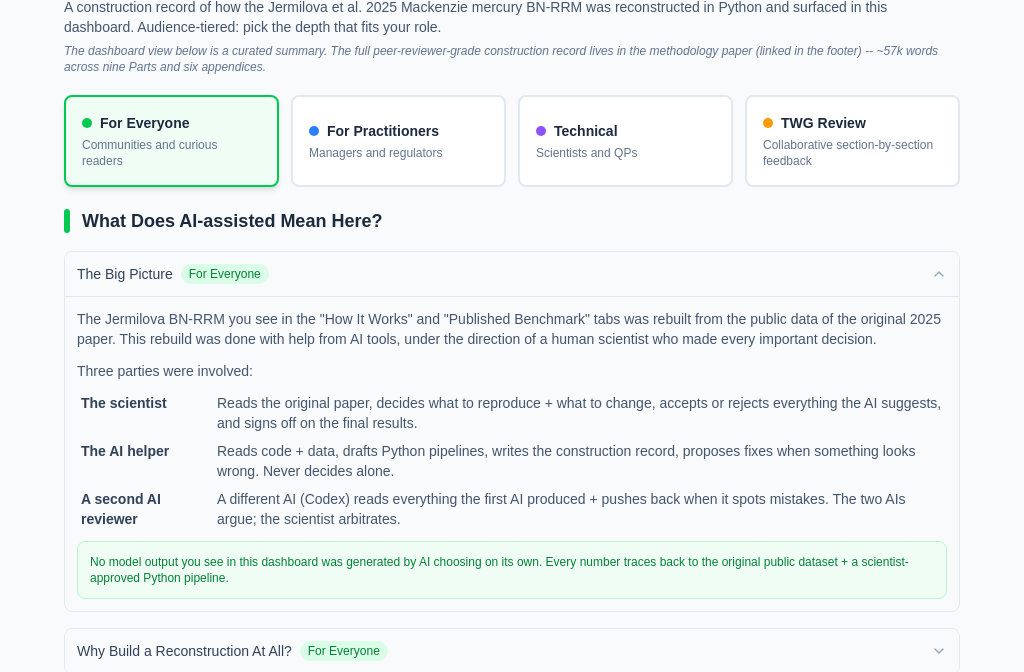
Test: AiAssistedDevelopmentView › switches to the Technical tier when clicked + shows the BDeu formula + opens the Comparison Protocol section
Click the button with test id "ai-assisted-tier-technical" at (626, 141), box [518,95,733,187]
(page scrolled)
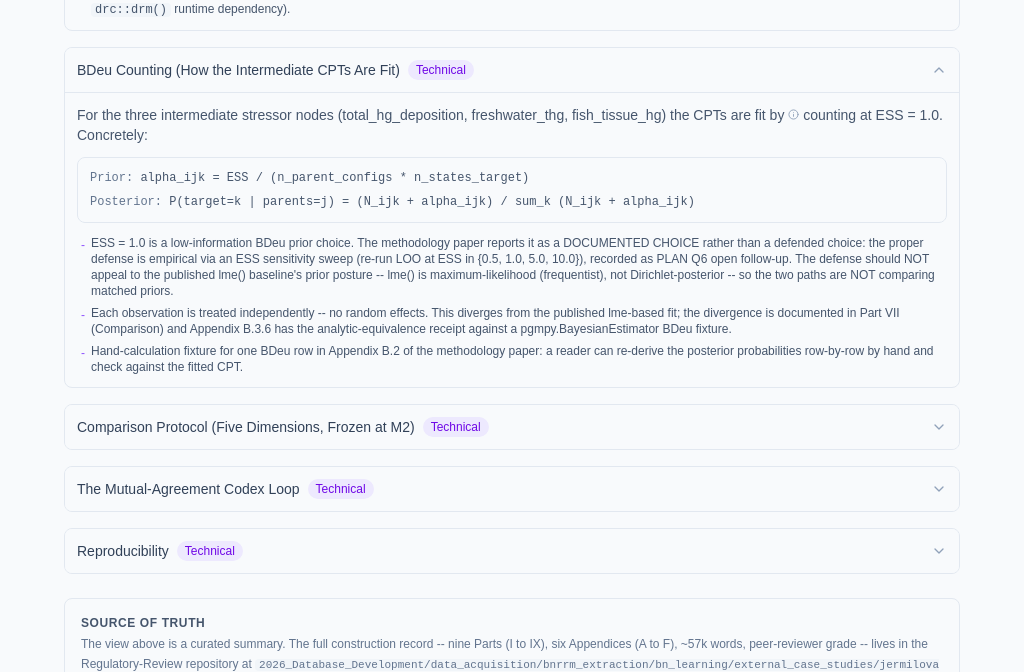
Now the text "alpha_ijk = ESS / (n_parent_configs * n_states_target)" is shown, box [140,171,529,185]
Click the button "Comparison Protocol (Five Dimensions, Frozen at M2)" at (246, 427), box [65,405,959,449]
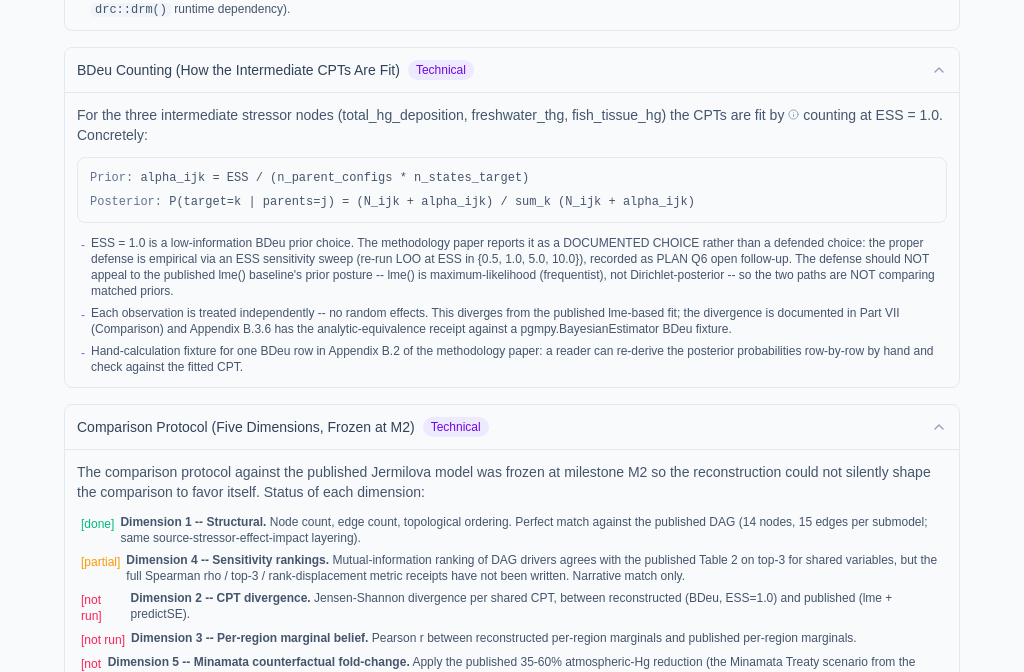
Now the text "Dimension 1 -- Structural" is shown, box [120,515,266,529]
Now the text "Dimension 4 -- Sensitivity rankings" is shown, box [126,553,329,567]
Now the text "Dimension 2 -- CPT divergence" is shown, box [131,591,311,605]
